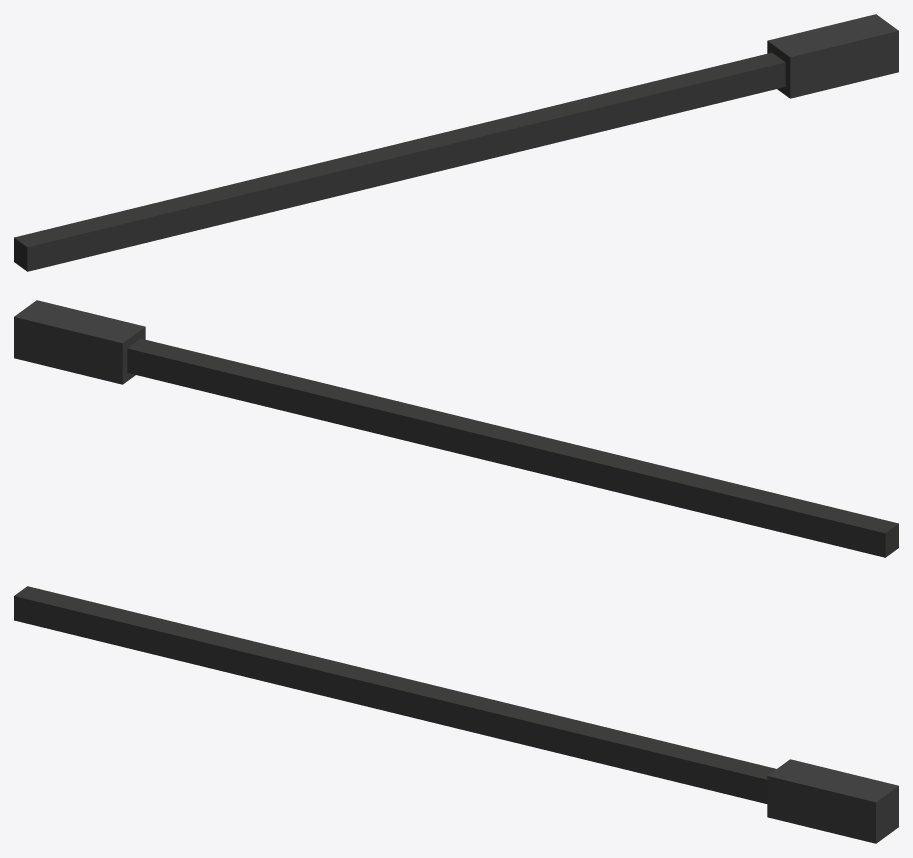
Rendered from Cable_B_1_2.fbx.
3 renders of one model, top to bottom at view 1: azimuth 30°, elevation 25°; view 2: azimuth 150°, elevation 25°; view 3: azimuth 330°, elevation 25°, orthographic.
Parts seen in each view (by area): view 1: Cable_B_1_2; view 2: Cable_B_1_2; view 3: Cable_B_1_2.
Boxes of the visible parts, box(x1,y1,x2,y2) form: Cable_B_1_2: box(14, 14, 898, 271); Cable_B_1_2: box(14, 300, 898, 557); Cable_B_1_2: box(14, 586, 898, 843).
Bounding box in the file's own units: 215 × 9.83 × 9.83.
